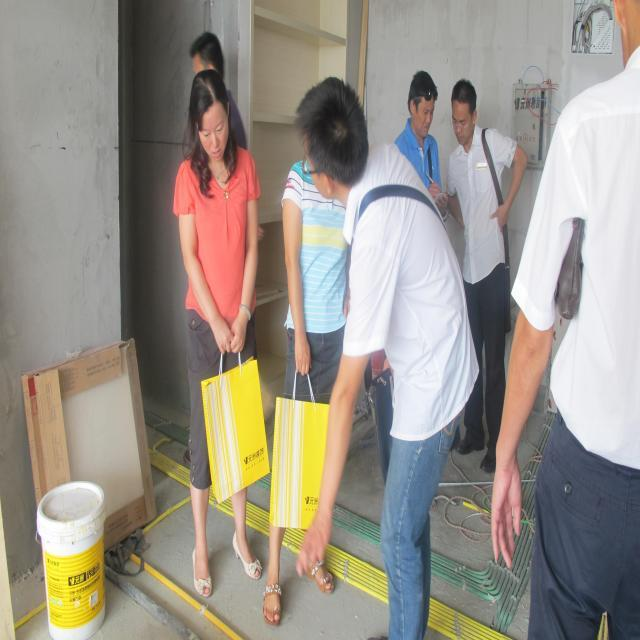Bare_Head: (294, 74, 372, 196), (188, 66, 234, 170), (407, 66, 440, 140), (450, 79, 479, 145)
NO_Safety_vest: (515, 53, 640, 473), (343, 144, 457, 447), (174, 145, 260, 345), (281, 142, 348, 338), (452, 125, 518, 288), (392, 126, 442, 218)
